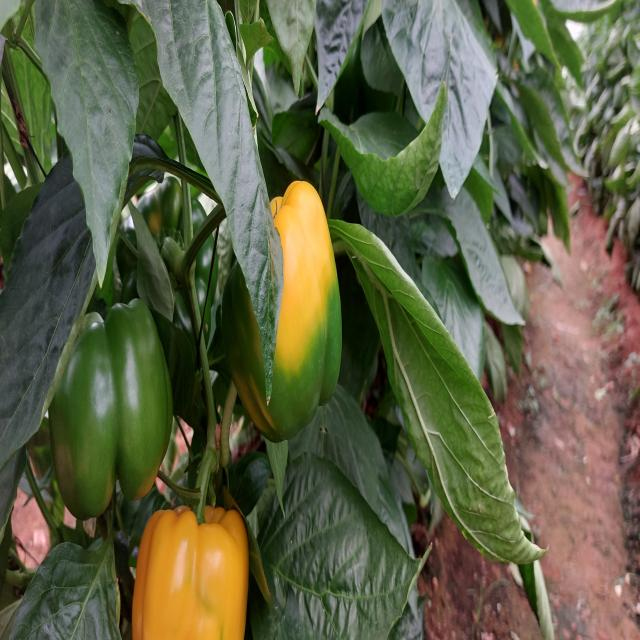Green--Not-ready-to-harvest: (52, 262, 164, 500)
GreenishYellow--Can-be-Harvested: (226, 181, 352, 458)
Yellow-Ready-to-Harvest: (129, 483, 252, 640)
